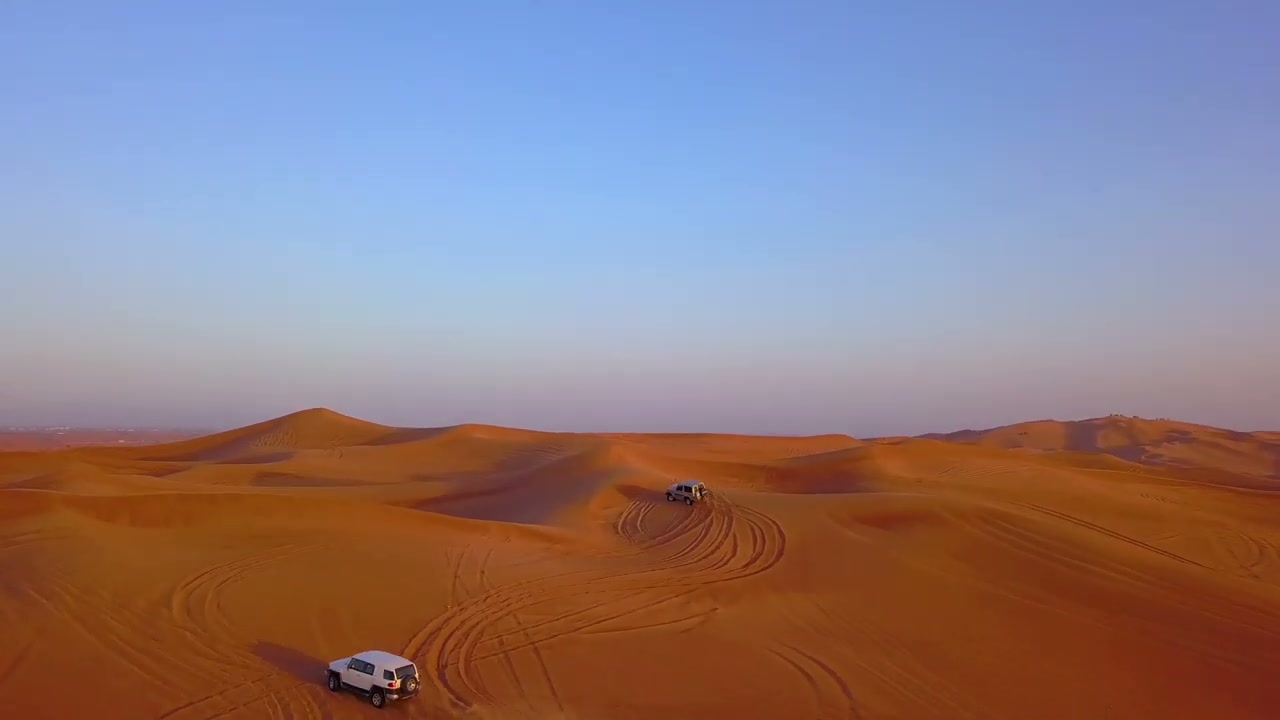vehicle_track: (405, 499, 785, 707), (770, 643, 861, 719)
